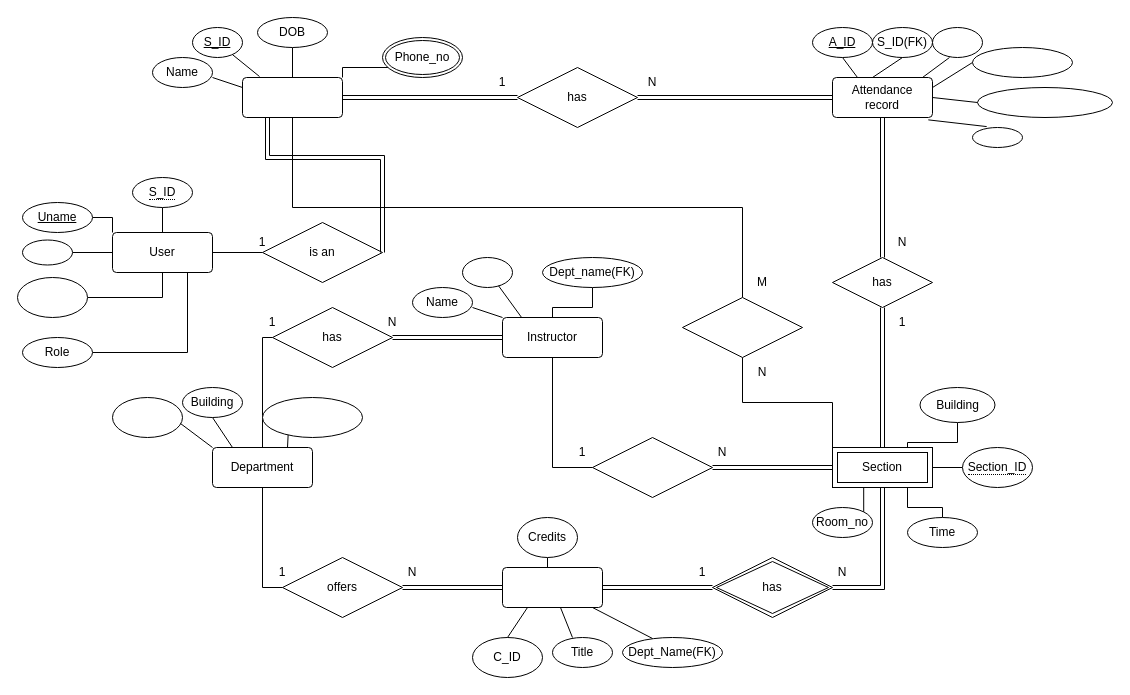
Image size: 1130x695. Some labels were removed from this diagram. Here are the shapes that lost their labels. From the top down, the centre of each, then its label:
At pixel 957 42: "C_ID(FK)".
At pixel 1022 62: "Section_ID(FK)".
At pixel 292 97: "Student".
At pixel 1044 102: "Status(Present/Absent)".
At pixel 997 137: "Date".
At pixel 47 252: "Pwd".
At pixel 487 272: "I_ID".
At pixel 52 297: "SecurityQ".
At pixel 742 327: "takes".
At pixel 147 417: "Dept_Name".
At pixel 312 417: "Budget".
At pixel 652 467: "teaches".
At pixel 552 587: "Course".
